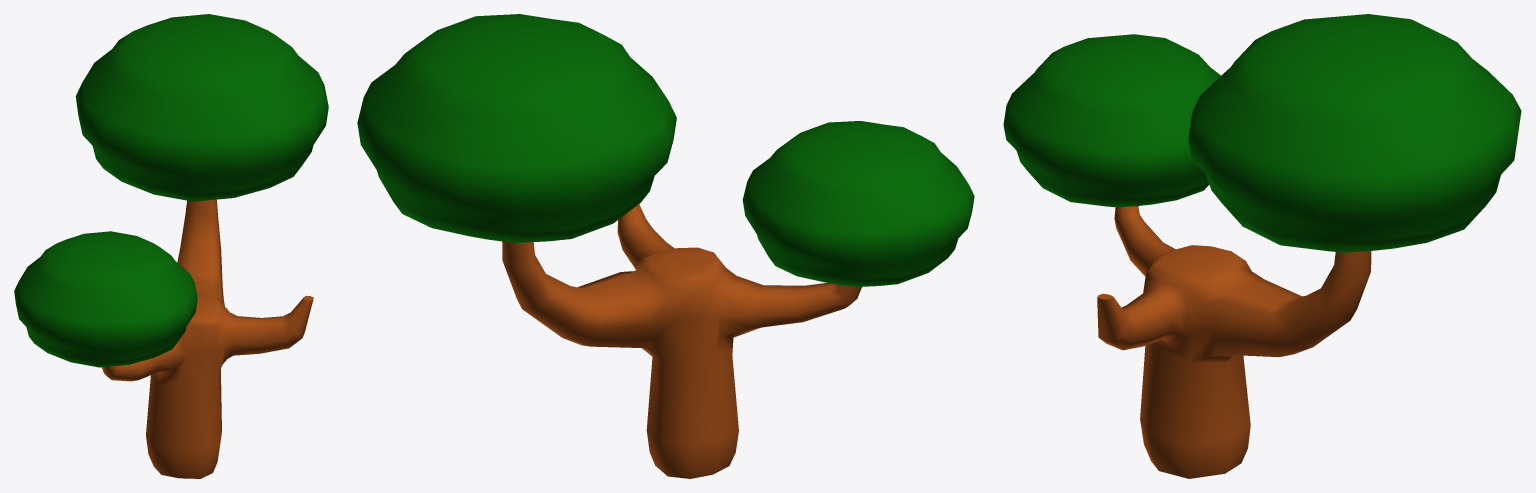
Rendered from SM_Tree_P_1.fbx.
3 renders of one model, left to right at view 1: azimuth 30°, elevation 25°; view 2: azimuth 150°, elevation 25°; view 3: azimuth 270°, elevation 25°, orthographic. The views are drawn at different scales.
Parts seen in each view (by area): view 1: SM_Tree_P_1; view 2: SM_Tree_P_1; view 3: SM_Tree_P_1.
Boxes of the visible parts, bbox=[...] form: SM_Tree_P_1: bbox=[14, 14, 328, 478]; SM_Tree_P_1: bbox=[357, 14, 974, 478]; SM_Tree_P_1: bbox=[1003, 14, 1521, 478].
Bounding box in the file's own units: 652 × 602 × 599.
